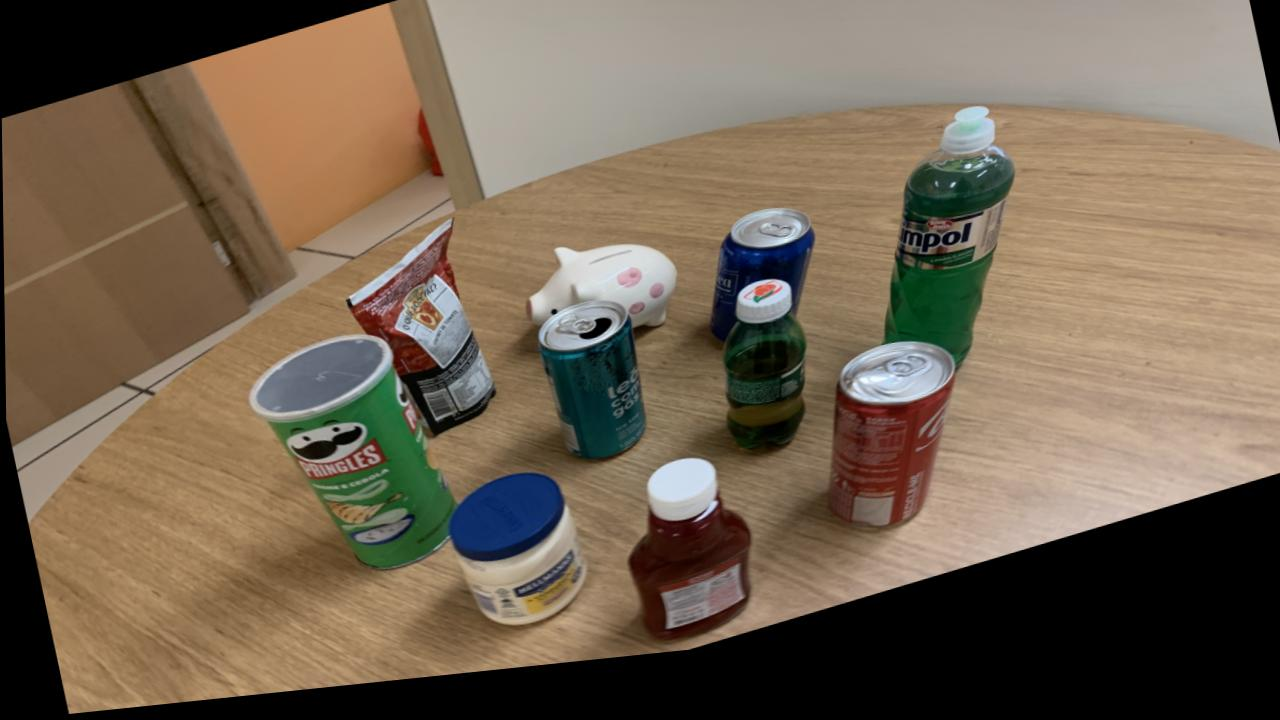Coke-Drinks: (825, 361, 954, 546)
Detergent-Cleanup_Items: (882, 127, 1014, 386)
Guarana-Drinks: (721, 295, 805, 465)
Ketchup-Pantry_Items: (625, 472, 749, 654)
Mayonnaise-Pantry_Items: (446, 483, 585, 636)
Pig_Safe-Miscellaneous: (523, 256, 675, 340)
Pringles-Snacks: (247, 342, 454, 577)
Tea-Drinks: (536, 312, 645, 472)
Tomato_Sauce-Pantry_Items: (346, 229, 493, 443)
Tonic-Drinks: (709, 224, 814, 356)
